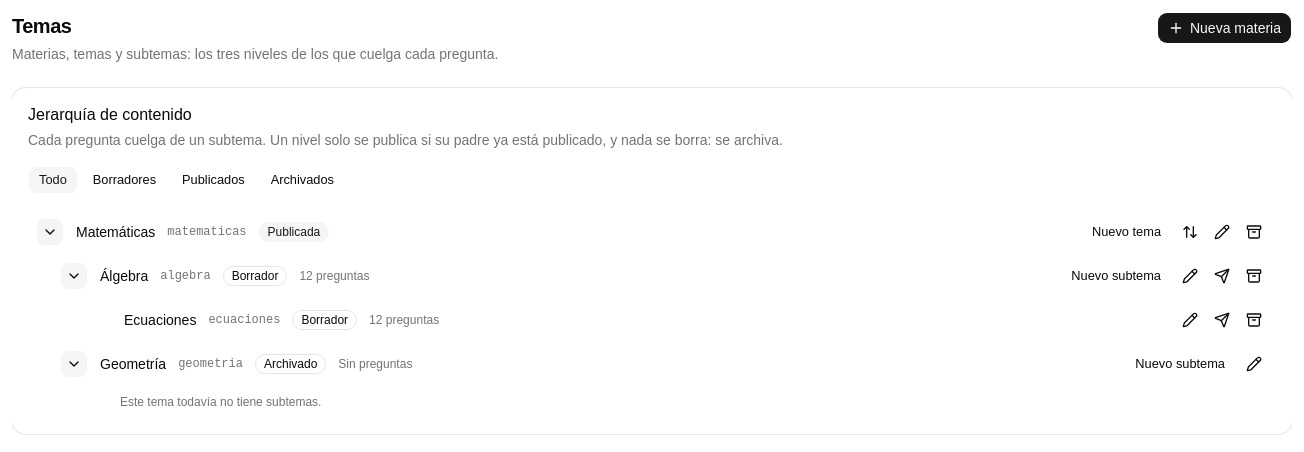
Test case: gestión de temas y subtemas › el filtro por estado esconde lo que no casa y lo dice
The width and height of the screenshot is (1304, 452).
Click the button "Publicados": (213,180) [171,166,256,194]
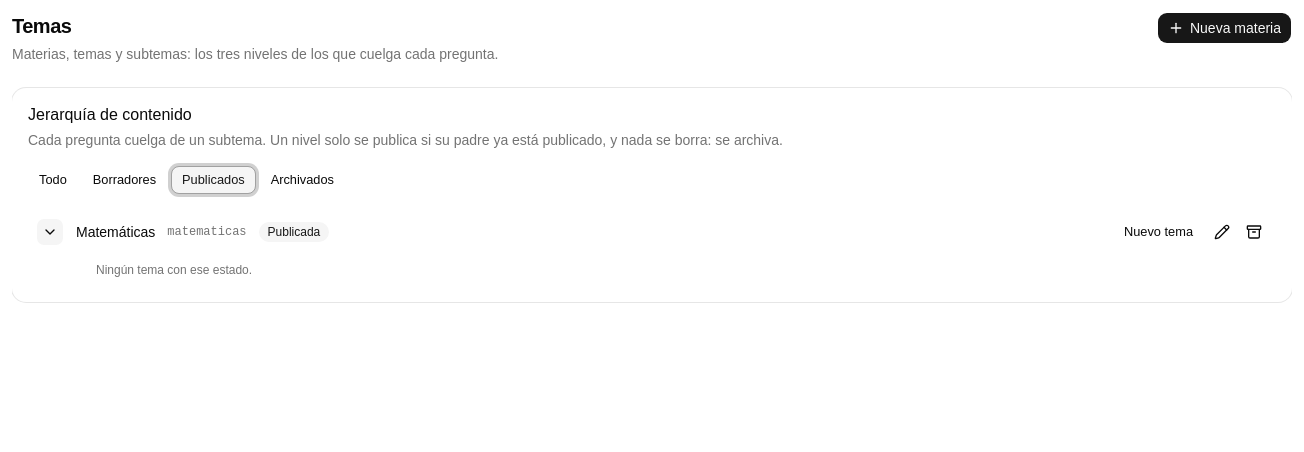
Expected: the text "Matemáticas" is shown, [76,222,155,242]
Expected: the text "Ecuaciones" is gone
Expected: the text "Ningún tema con ese estado." is shown, [96,263,252,277]
